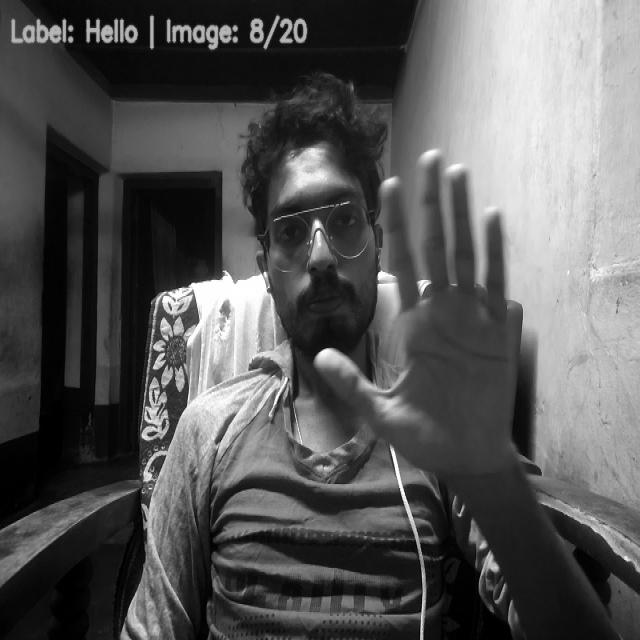Hello: (313, 144, 522, 470)
